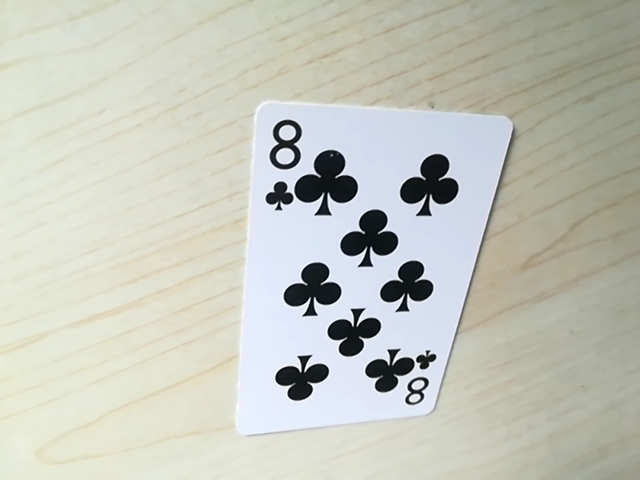mh 8: (252, 108, 312, 210), (395, 356, 437, 411)
